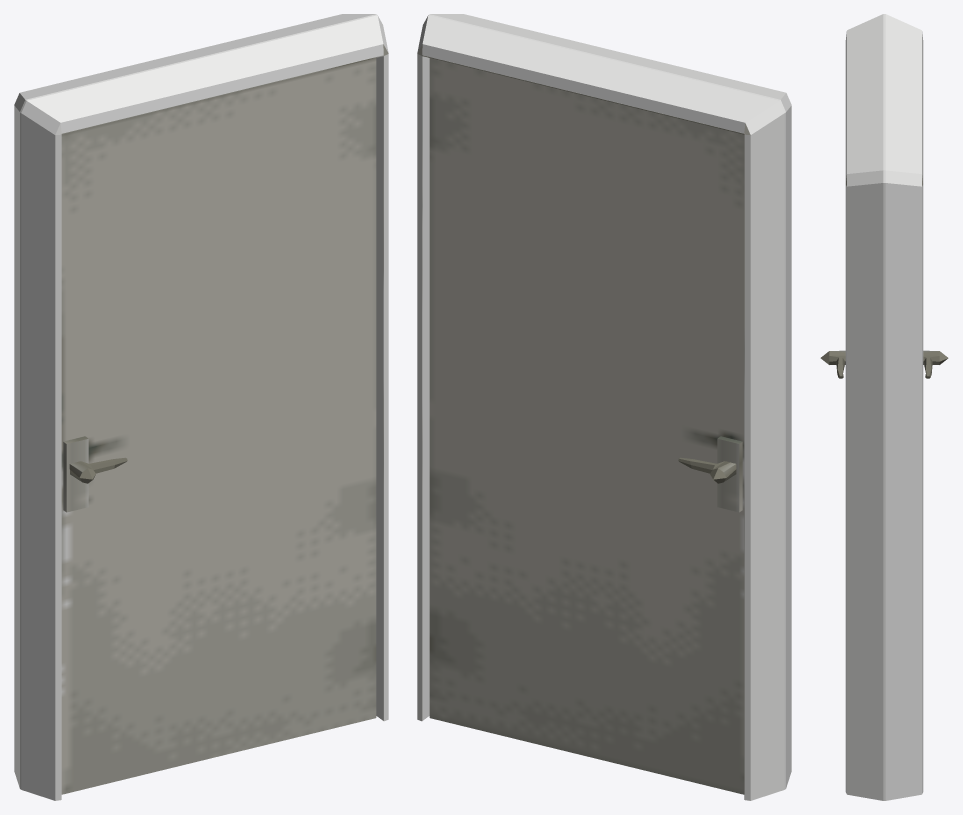
The model's file is MaintenanceDoor.fbx.
The picture shows the model from 3 angles, left to right: view 1: azimuth 30°, elevation 25°; view 2: azimuth 150°, elevation 25°; view 3: azimuth 270°, elevation 25°; orthographic projection. The views are drawn at different scales.
Parts seen in each view (by area): view 1: MaintenanceDoor, MaintenanceRestraint, MaintenanceHandle; view 2: MaintenanceDoor, MaintenanceRestraint, MaintenanceHandle; view 3: MaintenanceRestraint, MaintenanceHandle.
Boxes of the visible parts, x1,y1,x2,y2 form: MaintenanceDoor: [61, 58, 376, 794]; MaintenanceRestraint: [14, 14, 388, 800]; MaintenanceHandle: [69, 457, 127, 483]; MaintenanceDoor: [429, 58, 744, 794]; MaintenanceRestraint: [417, 14, 791, 800]; MaintenanceHandle: [678, 457, 736, 483]; MaintenanceRestraint: [845, 14, 923, 800]; MaintenanceHandle: [820, 350, 948, 378].
Bounding box in the file's own units: 1.11 × 2.01 × 0.3722.
